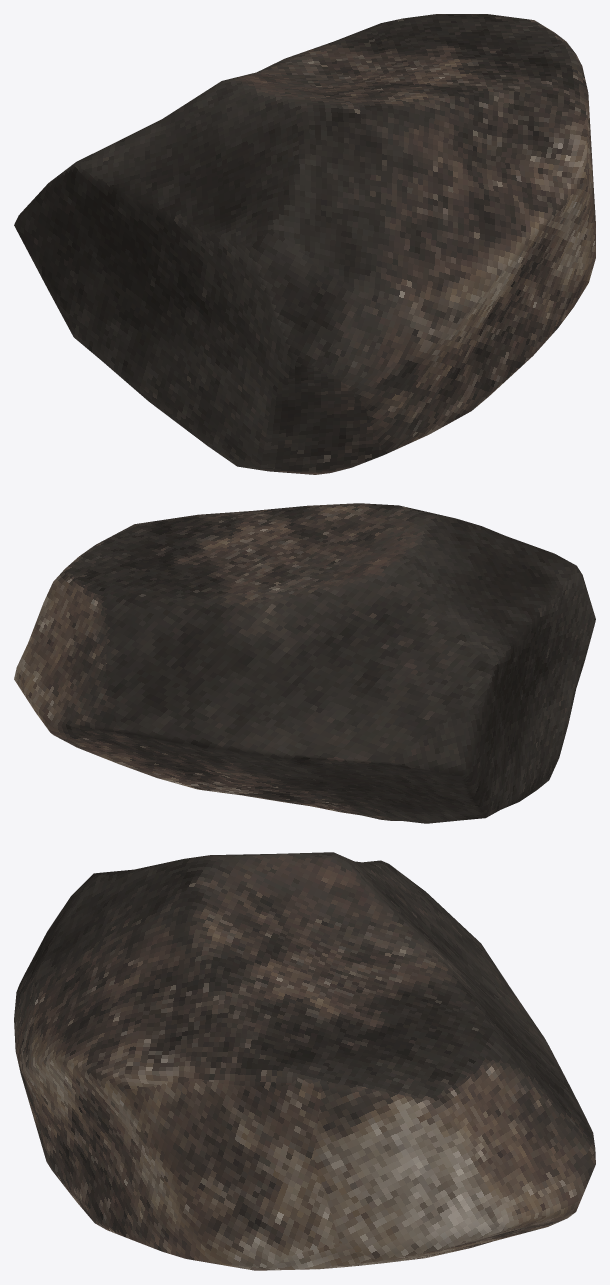
File: SM_RP_Rock_4m_5.glb
3 views of the same model, one above another, from view 1: azimuth 30°, elevation 25°; view 2: azimuth 150°, elevation 25°; view 3: azimuth 270°, elevation 25° (orthographic). The views are drawn at different scales.
Visible parts, largest first — view 1: SM_RP_Rock_4m_5; view 2: SM_RP_Rock_4m_5; view 3: SM_RP_Rock_4m_5.
Part boxes in pixels (bbox=[...]): SM_RP_Rock_4m_5: bbox=[14, 14, 595, 474]; SM_RP_Rock_4m_5: bbox=[14, 503, 595, 823]; SM_RP_Rock_4m_5: bbox=[14, 852, 595, 1270].
Size of the model in its own units: 6.37 by 4 by 5.77.
1 material, 1 textured.
